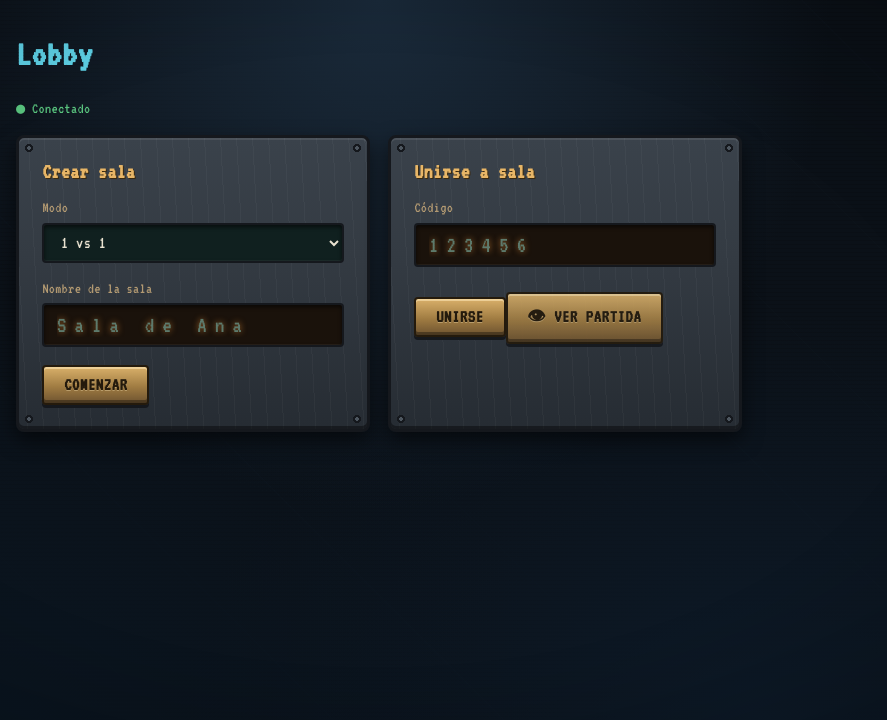
Test case: LobbyPage — crear y unirse a sala › el campo de código solo admite dígitos
In the field with placeholder "123456": (565, 245) [414,223,716,267], type "12a3b4c"
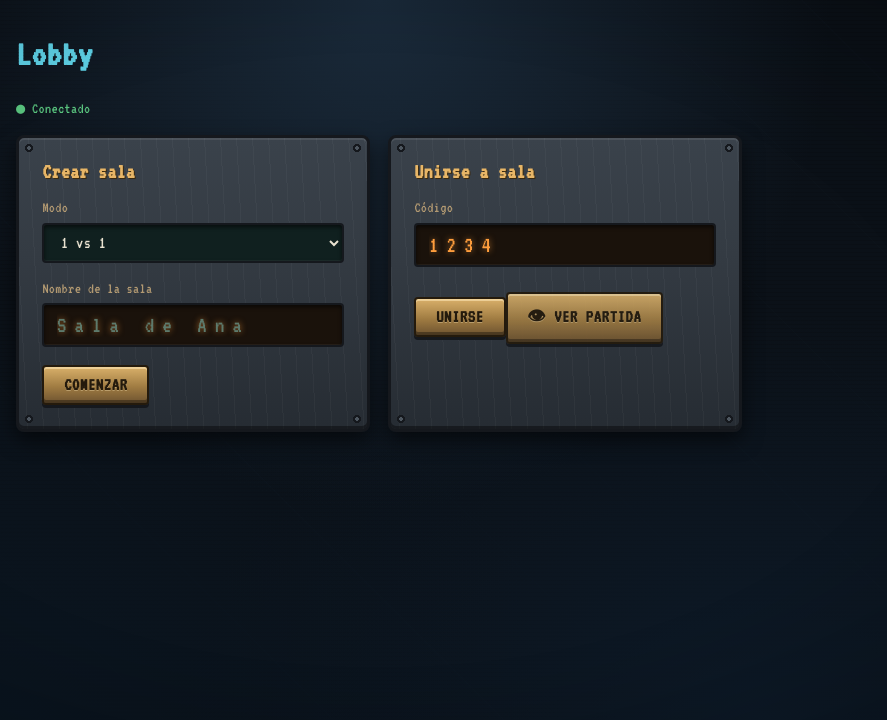
Check: the field with placeholder "123456" holds "1234", box [414,223,716,267]
